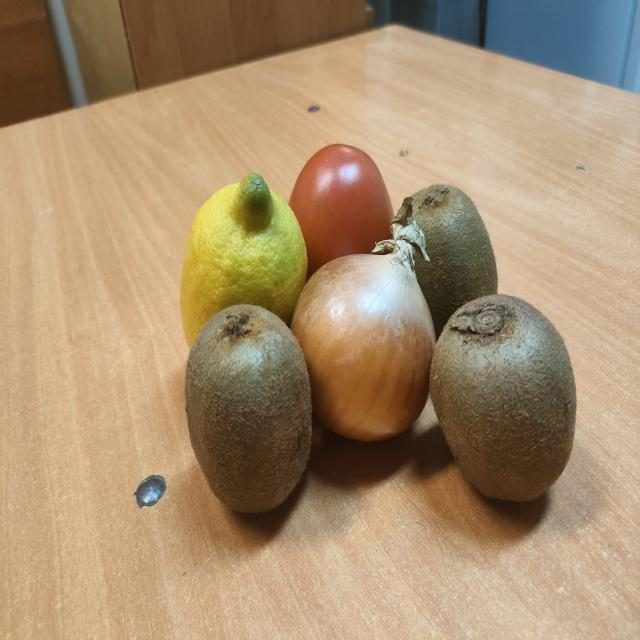kiwi: (291, 198, 435, 442), (430, 295, 576, 502), (185, 305, 311, 513), (411, 183, 498, 338)
lemon: (180, 173, 308, 347)
tomato: (289, 145, 394, 278)
